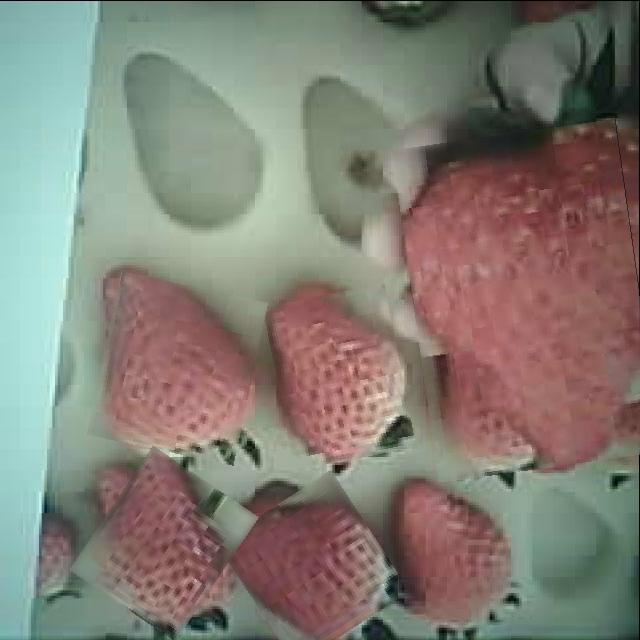strawberry: (403, 125, 640, 475), (94, 278, 260, 458), (85, 456, 243, 628), (232, 483, 396, 640), (271, 288, 408, 465), (398, 481, 510, 623)
